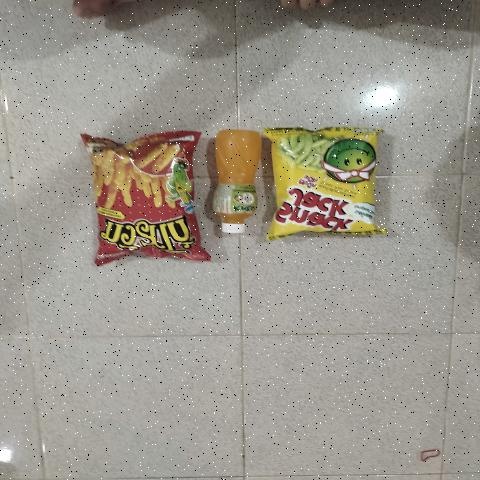snack_jack: (288, 134, 369, 227)
twisco: (101, 128, 192, 252)
